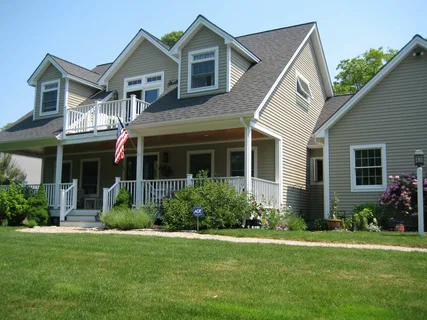private_hause: (38, 36, 303, 211)
